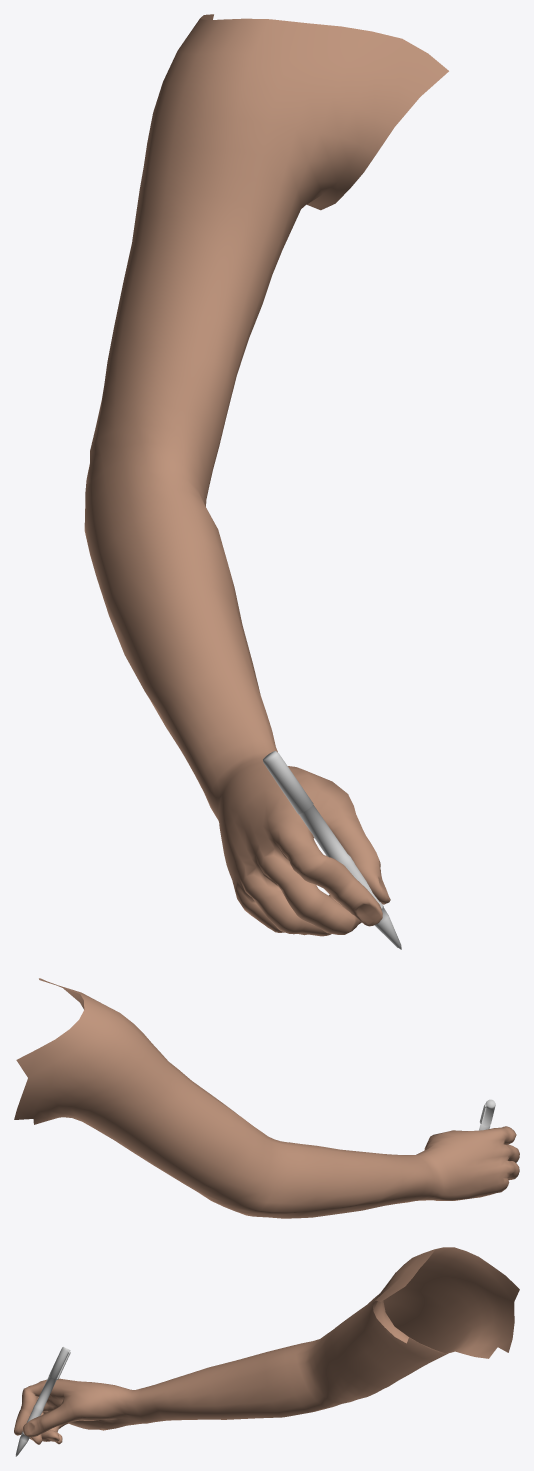
Rendered from handandpen.fbx.
3 renders of one model, top to bottom at view 1: azimuth 30°, elevation 25°; view 2: azimuth 150°, elevation 25°; view 3: azimuth 270°, elevation 25°, orthographic. The views are drawn at different scales.
Parts seen in each view (by area): view 1: handmodel-base; view 2: handmodel-base; view 3: handmodel-base.
Part boxes in pixels (x1,y1,x2,y2): handmodel-base: [84, 14, 448, 949]; handmodel-base: [14, 978, 519, 1218]; handmodel-base: [14, 1247, 519, 1456].
Size of the model in its own units: 19242 by 19339 by 32036.
